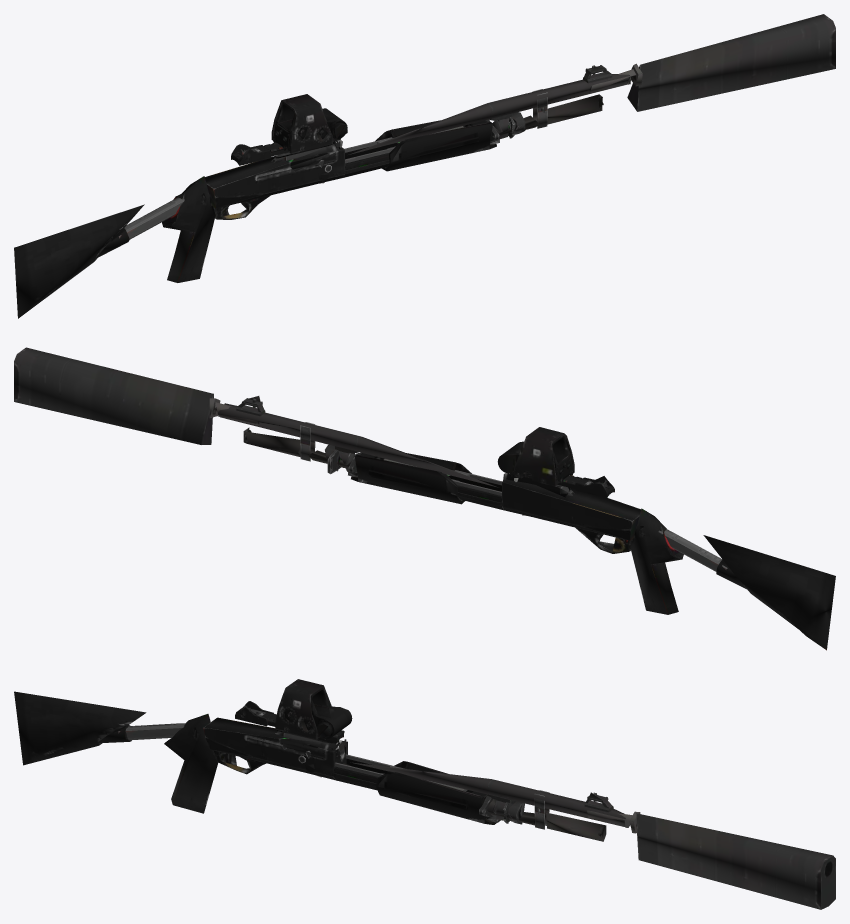
The model's file is benelli_m3_lod1.glb.
3 renders of one model, top to bottom at view 1: azimuth 30°, elevation 25°; view 2: azimuth 150°, elevation 25°; view 3: azimuth 330°, elevation 25°, orthographic.
Visible parts, largest first — view 1: base, silencer, base_2, forend, sight, forend_2; view 2: base, silencer, base_2, forend, sight, forend_2; view 3: base, silencer, base_2, forend, sight, forend_2.
Part boxes in pixels (x1,y1,x2,y2): base: (14, 89, 547, 318); silencer: (589, 14, 835, 111); base_2: (271, 65, 629, 181); forend: (375, 120, 502, 171); sight: (271, 94, 347, 153); forend_2: (271, 126, 463, 172); base: (300, 422, 835, 650); silencer: (14, 347, 259, 444); base_2: (217, 396, 571, 510); forend: (345, 453, 471, 504); sight: (497, 427, 574, 486); forend_2: (383, 459, 574, 495); base: (14, 691, 549, 829); silencer: (587, 810, 835, 909); base_2: (276, 729, 625, 841); forend: (376, 761, 500, 824); sight: (275, 679, 352, 739); forend_2: (275, 731, 467, 791).
Bounding box in the file's own units: 1.53 × 0.2722 × 0.0841.
3 materials, 3 textured.
